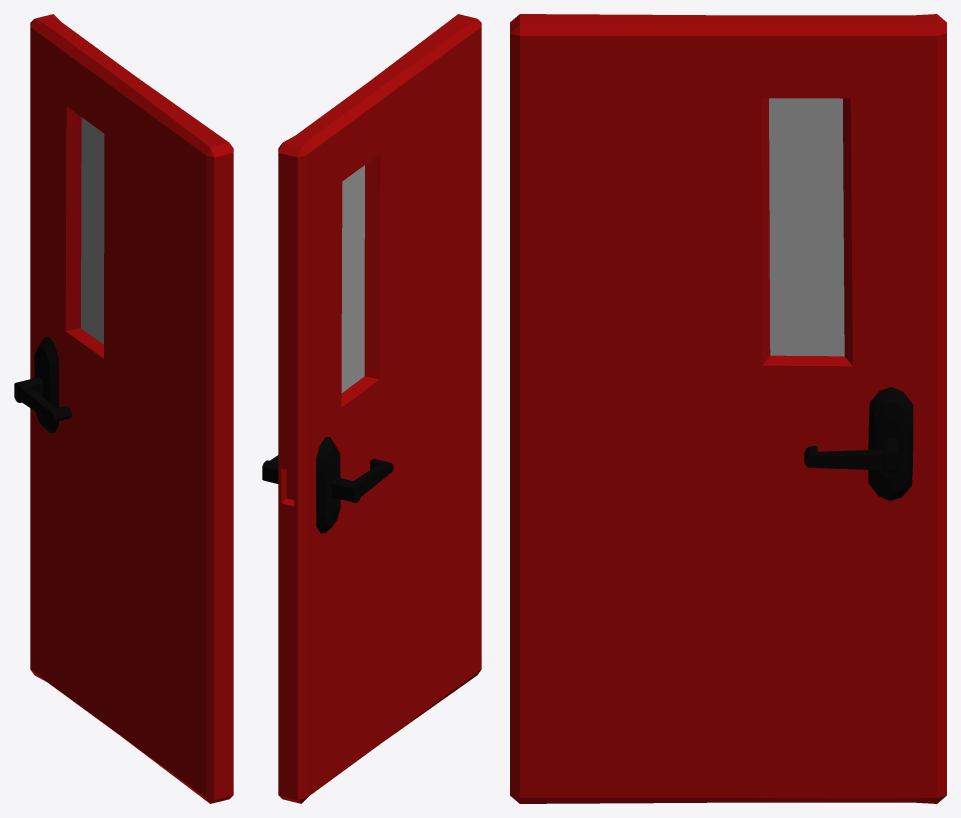
The model's file is door.fbx.
3 views of the same model, side by side, from view 1: azimuth 30°, elevation 25°; view 2: azimuth 150°, elevation 25°; view 3: azimuth 270°, elevation 25° (orthographic). The views are drawn at different scales.
Parts seen in each view (by area): view 1: pCube1; view 2: pCube1; view 3: pCube1.
Boxes of the visible parts, x1,y1,x2,y2 form: pCube1: (14, 14, 233, 803); pCube1: (262, 14, 481, 803); pCube1: (510, 14, 946, 803).
Size of the model in its own units: 1.74 by 11.72 by 5.96.
